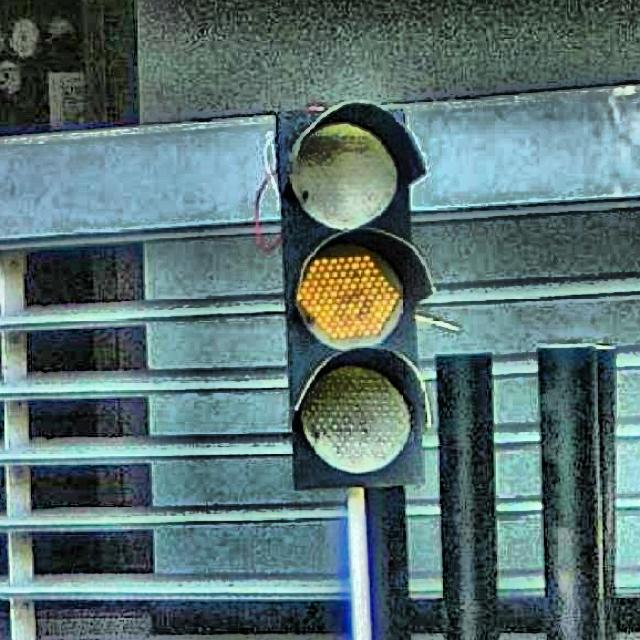yellow: (272, 105, 430, 488)
